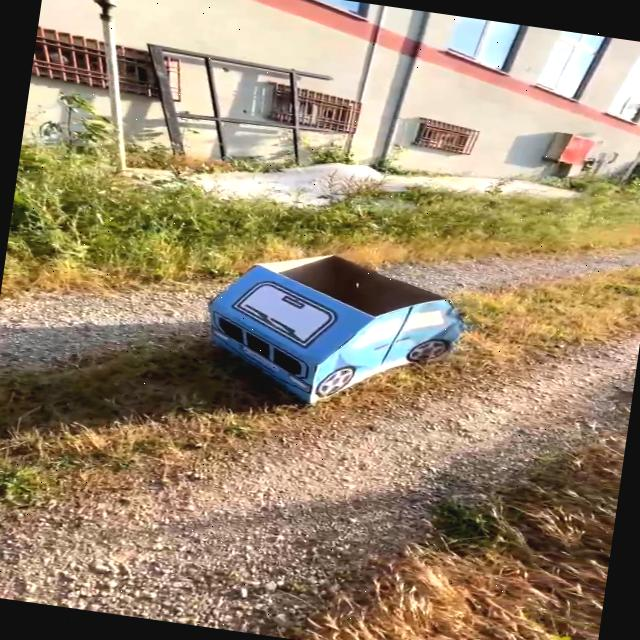blue_car: (140, 205, 518, 477)
